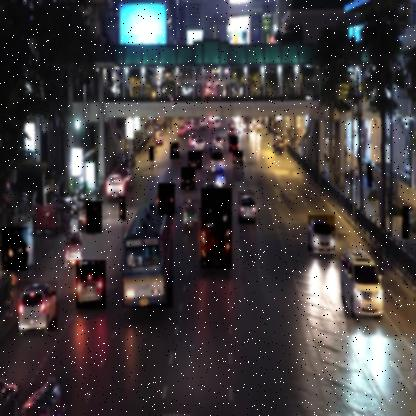bus: (122, 203, 174, 309), (201, 188, 233, 270)
car: (340, 248, 384, 320), (17, 281, 59, 332), (76, 260, 107, 310), (1, 227, 29, 272), (308, 215, 336, 252), (238, 191, 257, 225), (158, 183, 176, 215), (181, 167, 196, 191), (188, 151, 203, 170), (170, 142, 180, 160), (229, 136, 239, 153), (233, 150, 244, 165)
motocycle: (86, 201, 103, 234), (119, 196, 126, 220)
person: (402, 206, 410, 240), (367, 160, 373, 188), (149, 146, 155, 162)
van: (210, 147, 224, 174)
